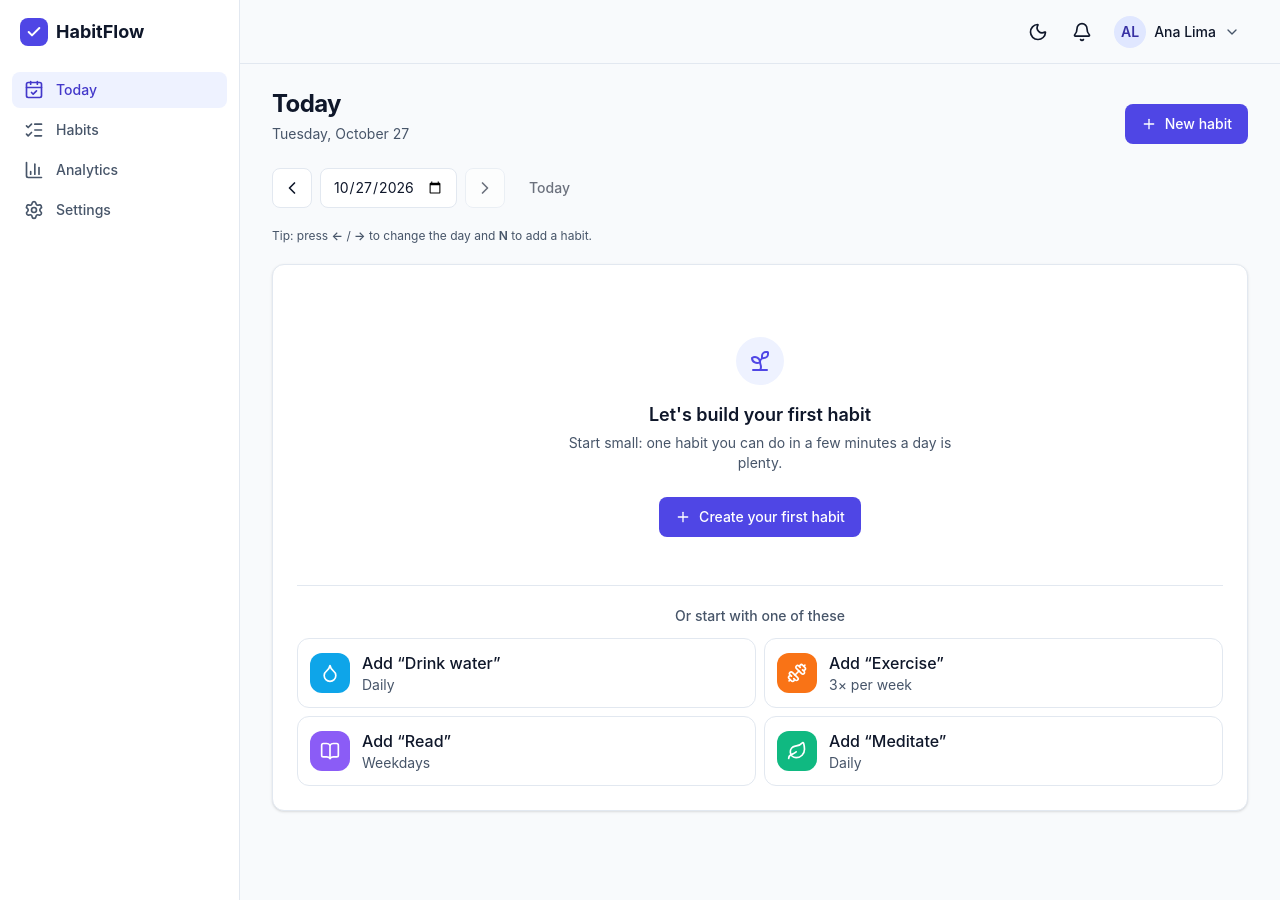
first run › "Create your first habit" opens the habit form
Click the button "Create your first habit" at (760, 517), box left=659, top=497, right=861, bottom=537
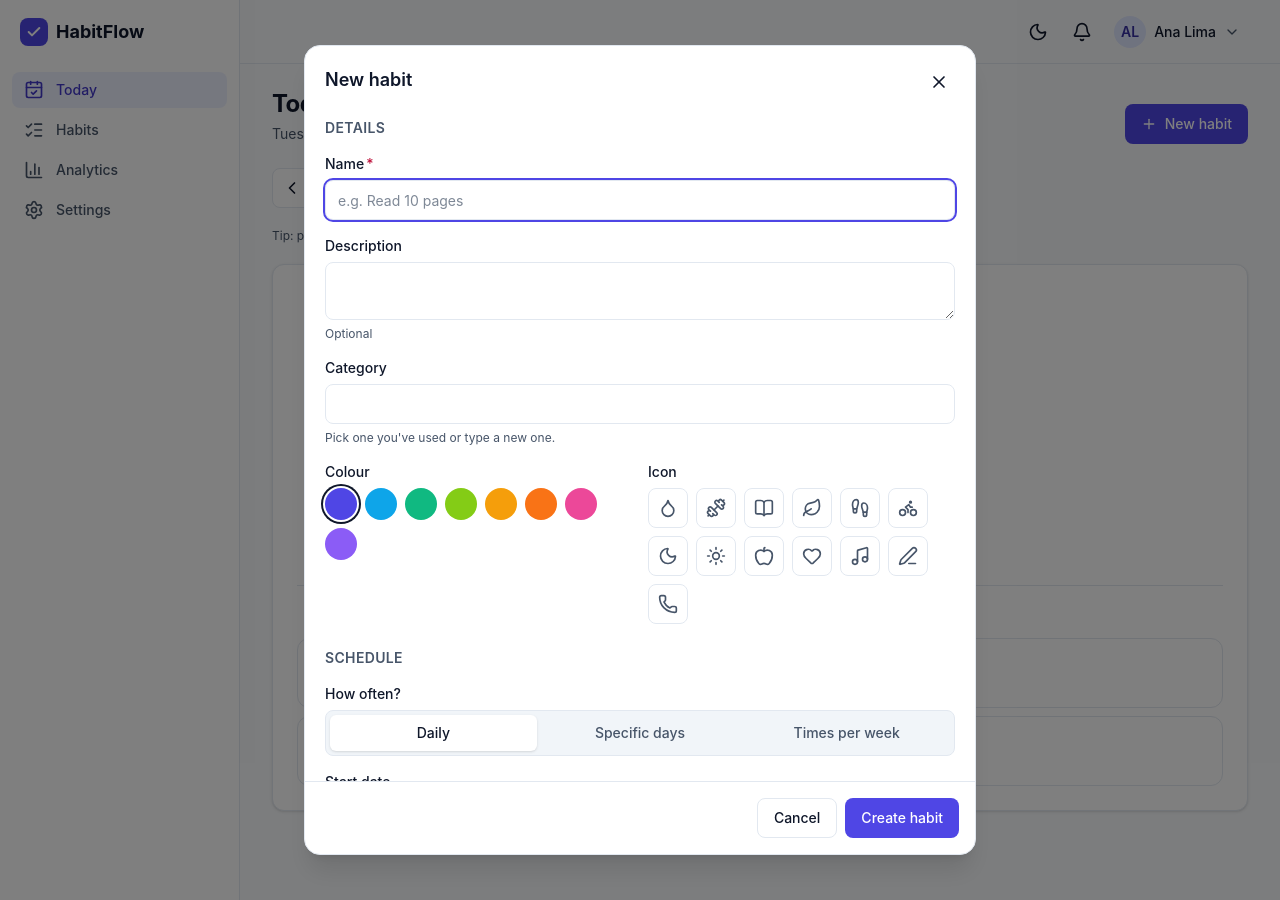
Expected: the dialog "New habit" is shown, left=304, top=45, right=976, bottom=855
